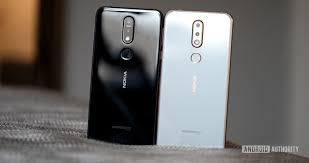nokia: (80, 6, 161, 145), (162, 11, 235, 152)
